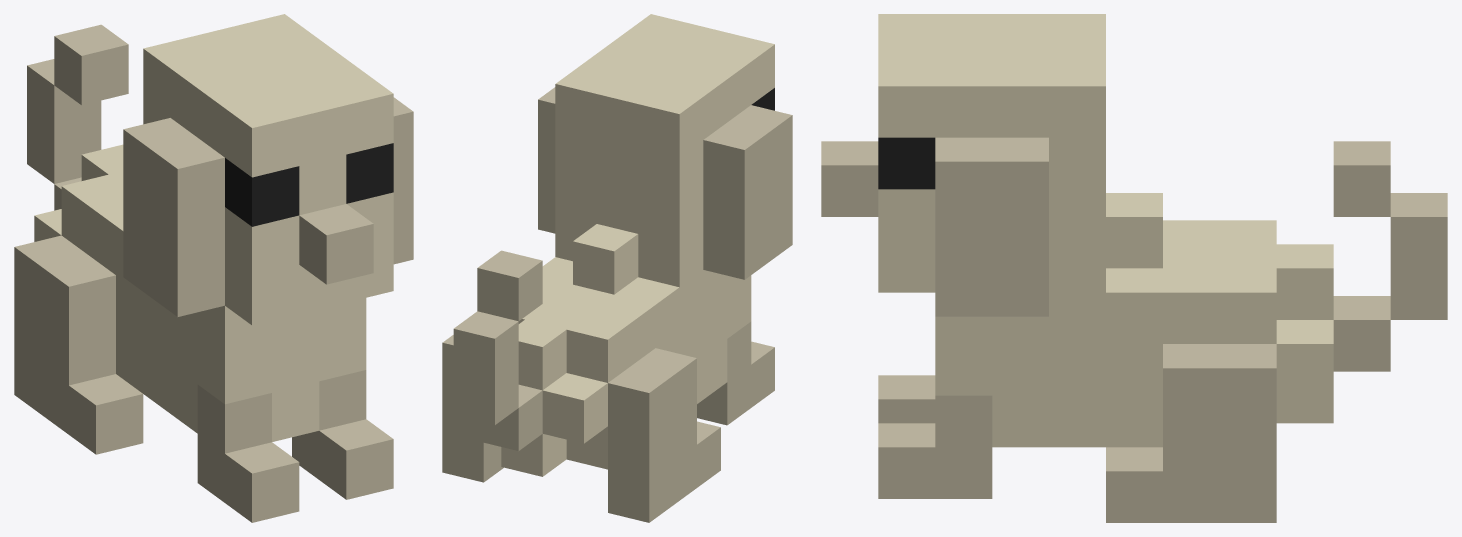
The model's file is 3D Voxel Park-94.obj.
3 renders of one model, left to right at view 1: azimuth 30°, elevation 25°; view 2: azimuth 150°, elevation 25°; view 3: azimuth 270°, elevation 25°, orthographic. The views are drawn at different scales.
Bounding box in the file's own units: 0.5 × 0.8 × 1.1.
1 material, 1 textured.
